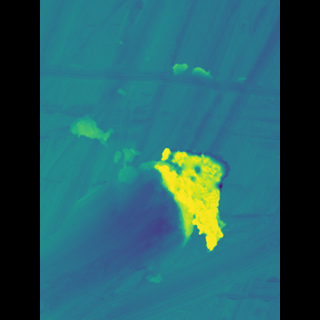Loch: (145, 137, 218, 260), (69, 63, 250, 100)
